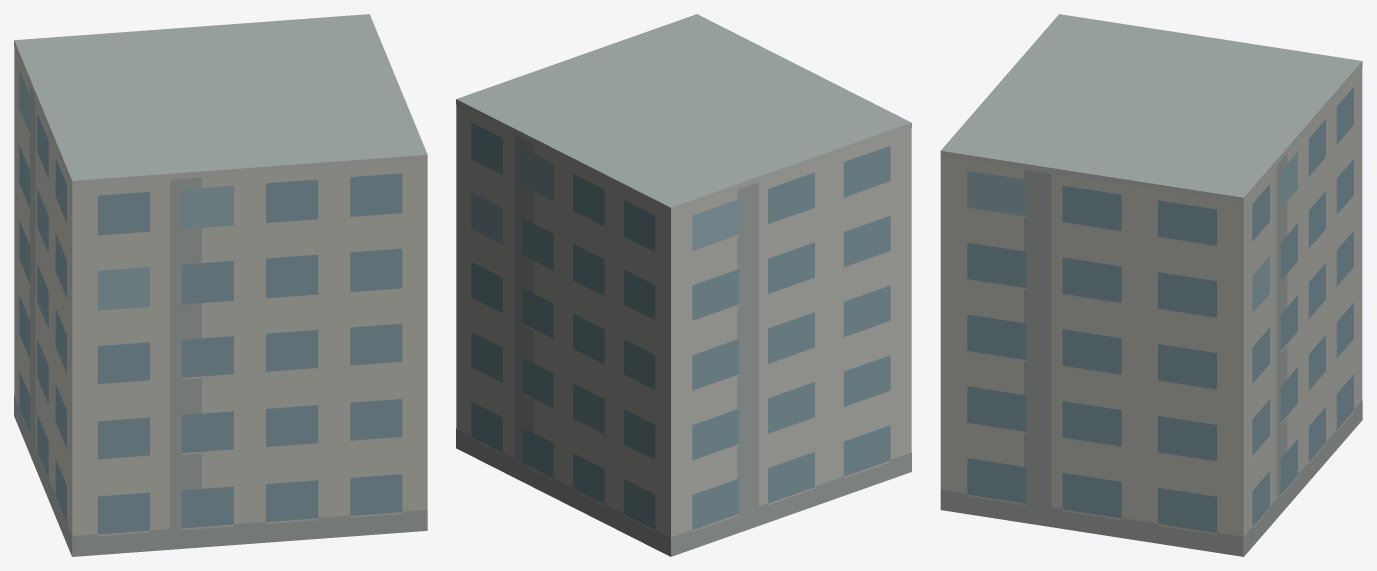
Rendered from residential-df420ff7-59c5-465f-aabc-e823d8d093f9.glb.
3 views of the same model, side by side, from view 1: azimuth 30°, elevation 25°; view 2: azimuth 150°, elevation 25°; view 3: azimuth 270°, elevation 25° (orthographic). The views are drawn at different scales.
Visible parts, largest first — view 1: residential-df420ff7-59c5-465f-aabc-e823d8d093f9.tmp; view 2: residential-df420ff7-59c5-465f-aabc-e823d8d093f9.tmp; view 3: residential-df420ff7-59c5-465f-aabc-e823d8d093f9.tmp.
Boxes of the visible parts, x1,y1,x2,y2 form: residential-df420ff7-59c5-465f-aabc-e823d8d093f9.tmp: [14, 14, 427, 556]; residential-df420ff7-59c5-465f-aabc-e823d8d093f9.tmp: [456, 14, 911, 556]; residential-df420ff7-59c5-465f-aabc-e823d8d093f9.tmp: [940, 14, 1362, 556].
Size of the model in its own units: 16.74 by 15.25 by 16.24.
